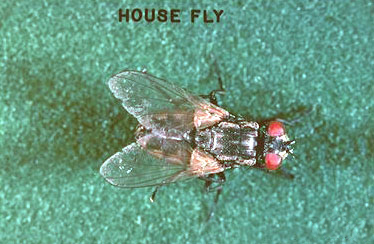fly: (101, 67, 311, 195)
